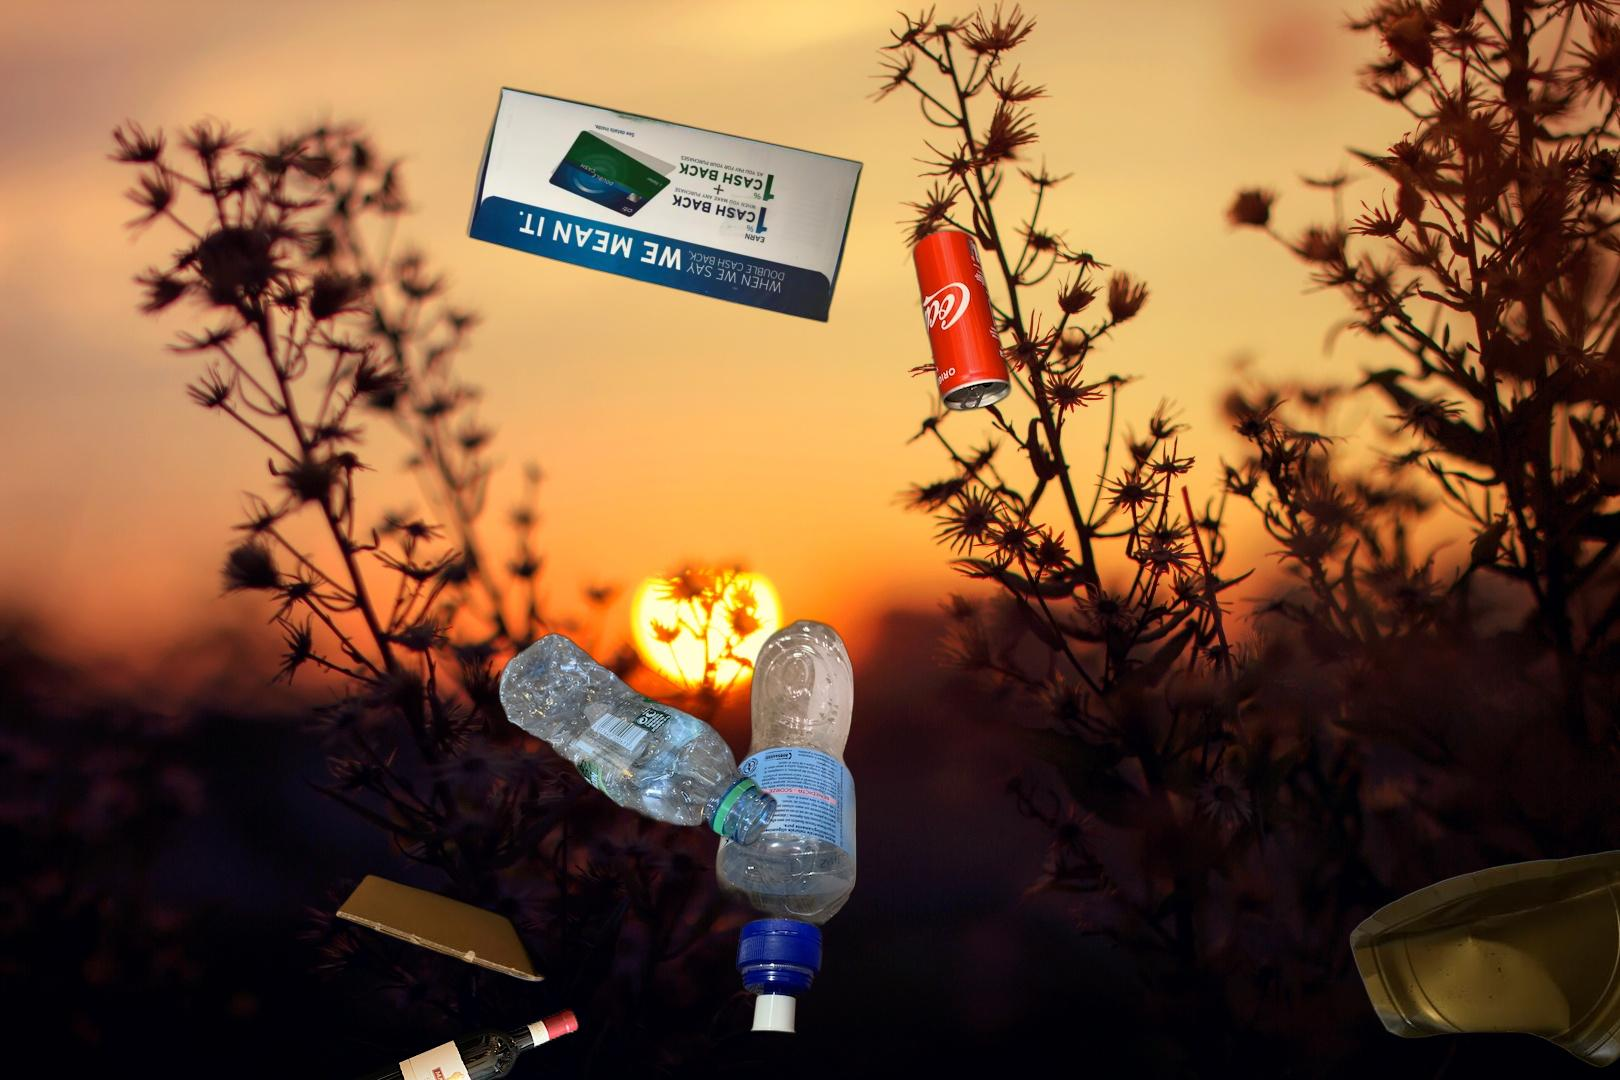glass: (332, 1003, 584, 1080)
metal-cans: (1476, 94, 1620, 530), (908, 224, 1016, 417)
paper: (462, 84, 867, 325), (1345, 846, 1620, 1070)
plastic-bottles: (495, 629, 780, 850), (712, 616, 860, 1037)
trashbox-cardboard: (331, 872, 549, 985)
